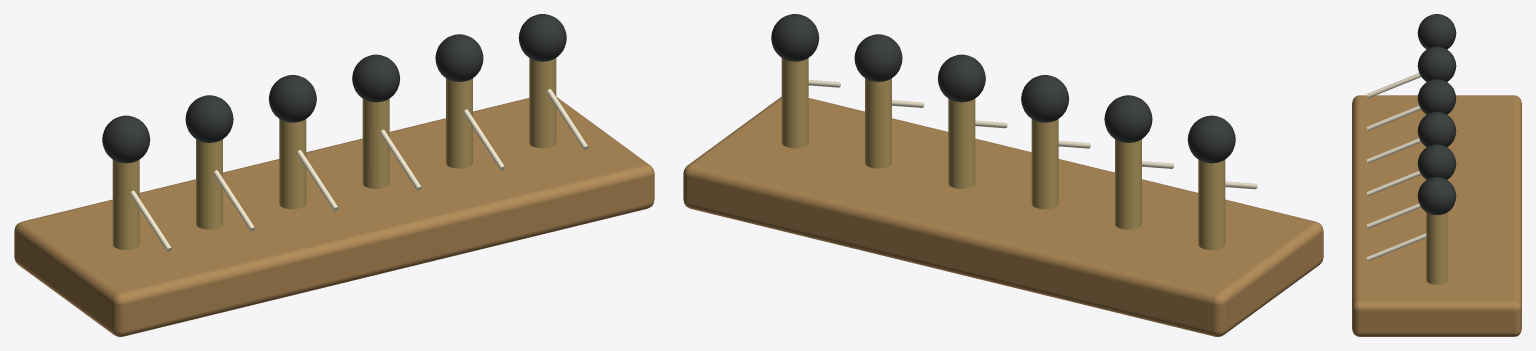
Rendered from abandoned-puppet-theatre-and-prop-vault-string-tuning--45beccc0__31081.glb.
3 renders of one model, left to right at view 1: azimuth 30°, elevation 25°; view 2: azimuth 150°, elevation 25°; view 3: azimuth 270°, elevation 25°, orthographic. The views are drawn at different scales.
Visible parts, largest first — view 1: string-tuning-jig; view 2: string-tuning-jig; view 3: string-tuning-jig.
Part boxes in pixels (<box>): string-tuning-jig: <box>14,14,654,336</box>; string-tuning-jig: <box>683,14,1323,336</box>; string-tuning-jig: <box>1352,14,1521,336</box>.
Size of the model in its own units: 0.65 by 0.195 by 0.22.
